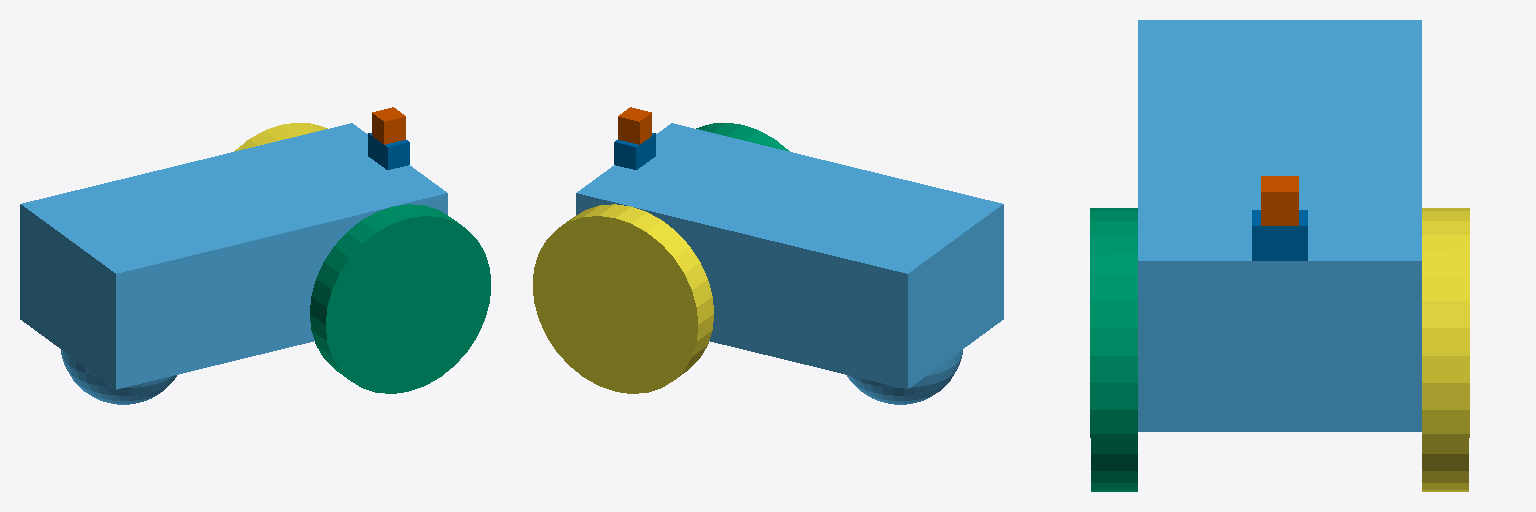
The robot description file, URDF, robot "simple_base":
<?xml version="1.0"?>
<robot name="simple_base">

<link name="base_link"></link>
<joint name="base_joint" type="fixed">
    <parent link="base_link"/>
    <child link="body"/>
</joint>

<link name="body">
<visual>
    <geometry>
        <box size="0.6 0.3 0.2"/>
    </geometry>
    <origin xyz="-0.2 0 0.05"/>
</visual>
<collision>
    <geometry>
        <box size="0.6 0.3 0.2"/>
    </geometry>
    <origin xyz="-0.2 0 0.05"/>
</collision>
<inertial>
    <mass value="1"/>
    <inertia
        ixx="0.0108"
        iyy="0.0333"
        izz="0.0375"
        ixy="0" ixz="0" iyz="0"
    />
    <origin xyz="-0.2 0 0.05"/>
</inertial>

<visual>
    <geometry>
        <sphere radius="0.1"/>
    </geometry>
    <origin xyz="-0.4 0 -0.05"/>
</visual>
<collision>
    <geometry>
        <sphere radius="0.1"/>
    </geometry>
    <origin xyz="-0.4 0 -0.05"/>
</collision>
<inertial>
    <mass value="6"/>
    <inertia
        ixx="0.024"
        iyy="0.024"
        izz="0.024"
        ixy="0" ixz="0" iyz="0"
    />
    <origin xyz="-0.4 0 -0.05"/>
</inertial>

</link>

<gazebo reference="body">
    <mu1>0</mu1>
    <mu2>0</mu2>
</gazebo>

<link name="wheel_right">
<visual>
    <geometry>
        <cylinder length="0.05" radius="0.15"/>
    </geometry>
    <origin xyz="0 0 0.025"/>
</visual>
<collision>
    <geometry>
        <cylinder length="0.05" radius="0.15"/>
    </geometry>
    <origin xyz="0 0 0.025"/>
</collision>
<inertial>
    <mass value="0.5"/>
    <inertia
        ixx="0.00146"
        iyy="0.00146"
        izz="0.00281"
        ixy="0" ixz="0" iyz="0"
    />
    <origin xyz="0 0 0.025"/>
</inertial>
</link>

<link name="wheel_left">
<visual>
    <geometry>
        <cylinder length="0.05" radius="0.15"/>
    </geometry>
    <origin xyz="0 0 0.025"/>
</visual>
<collision>
    <geometry>
        <cylinder length="0.05" radius="0.15"/>
    </geometry>
    <origin xyz="0 0 0.025"/>
</collision>
<inertial>
    <mass value="0.5"/>
    <inertia
        ixx="0.00146"
        iyy="0.00146"
        izz="0.00281"
        ixy="0" ixz="0" iyz="0"
    />
    <origin xyz="0 0 0.025"/>
</inertial>
</link>

<link name="T265_link">
<visual>
    <geometry>
        <box size="0.04 0.06 0.04"/>
    </geometry>
    <origin xyz="0 0 0.02"/>
</visual>
<collision>
    <geometry>
        <box size="0.04 0.06 0.04"/>
    </geometry>
    <origin xyz="0 0 0.02"/>
</collision>
<inertial>
    <mass value="0.05"/>
    <inertia
        ixx="0.0000217"
        iyy="0.0000133"
        izz="0.0000217"
        ixy="0" ixz="0" iyz="0"
    />
    <origin xyz="0 0 0.02"/>
</inertial>
</link>

<link name="D435i_link">
<visual>
    <geometry>
        <box size="0.04 0.04 0.04"/>
    </geometry>
    <origin xyz="0 0 0.02"/>
</visual>
<collision>
    <geometry>
        <box size="0.04 0.04 0.04"/>
    </geometry>
    <origin xyz="0 0 0.02"/>
</collision>
<inertial>
    <mass value="0.05"/>
    <inertia
        ixx="0.0000133"
        iyy="0.0000133"
        izz="0.0000133"
        ixy="0" ixz="0" iyz="0"
    />
    <origin xyz="0 0 0.02"/>
</inertial>
</link>

<joint name="wheel_right" type="continuous">
    <parent link="body"/>
    <child link="wheel_right"/>
    <origin xyz="0 -0.15 0" rpy="1.571 0 0"/>
    <axis xyz="0 0 -1"/>
</joint>

<joint name="wheel_left" type="continuous">
    <parent link="body"/>
    <child link="wheel_left"/>
    <origin xyz="0 0.15 0" rpy="-1.571 0 0"/>
    <axis xyz="0 0 1"/>
</joint>

<joint name="T265_joint" type="fixed">
    <parent link="body"/>
    <child link="T265_link"/>
    <origin xyz="0.08 0 0.15"/>
</joint>

<joint name="D435i_joint" type="fixed">
    <parent link="body"/>
    <child link="D435i_link"/>
    <origin xyz="0.08 0 0.19"/>
</joint>

<gazebo>
<plugin filename="libgazebo_ros_control.so" name="control"/>
</gazebo>

<transmission name="wheel_right_tran">
    <type>transmission_interface/SimpleTransmission</type>
    <joint name="wheel_right">
        <hardwareInterface>VelocityJointInterface</hardwareInterface>
    </joint>
    <actuator name="wheel_right_actr">
        <hardwareInterface>VelocityJointInterface</hardwareInterface>
        <mechanicalReduction>1</mechanicalReduction>
    </actuator>
</transmission>

<transmission name="wheel_left_tran">
    <type>transmission_interface/SimpleTransmission</type>
    <joint name="wheel_left">
        <hardwareInterface>VelocityJointInterface</hardwareInterface>
    </joint>
    <actuator name="wheel_left_actr">
        <hardwareInterface>VelocityJointInterface</hardwareInterface>
        <mechanicalReduction>1</mechanicalReduction>
    </actuator>
</transmission>

<gazebo reference="T265_link">
<sensor type="multicamera" name="T265">
    <update_rate>30.0</update_rate>
    <camera name="left">
        <pose>0 0.035 0 0 0 0</pose>
        <horizontal_fov>1.3962634</horizontal_fov>
        <image>
            <width>800</width>
            <height>800</height>
            <format>R8G8B8</format>
        </image>
        <clip>
            <near>0.02</near>
            <far>300</far>
        </clip>
        <noise>
            <type>gaussian</type>
            <mean>0.0</mean>
            <stddev>0.007</stddev>
        </noise>
    </camera>
    <camera name="right">
        <pose>0 -0.035 0 0 0 0</pose>
        <horizontal_fov>1.3962634</horizontal_fov>
        <image>
            <width>800</width>
            <height>800</height>
            <format>R8G8B8</format>
        </image>
        <clip>
            <near>0.02</near>
            <far>300</far>
        </clip>
        <noise>
            <type>gaussian</type>
            <mean>0.0</mean>
            <stddev>0.007</stddev>
        </noise>
    </camera>
    <plugin name="T265_controller" filename="libgazebo_ros_multicamera.so">
        <alwaysOn>true</alwaysOn>
        <updateRate>0.0</updateRate>
        <cameraName>T265</cameraName>
        <imageTopicName>image_raw</imageTopicName>
        <cameraInfoTopicName>camera_info</cameraInfoTopicName>
        <frameName>T265_link</frameName>
        <hackBaseline>0.07</hackBaseline>
        <distortionK1>0.0</distortionK1>
        <distortionK2>0.0</distortionK2>
        <distortionK3>0.0</distortionK3>
        <distortionT1>0.0</distortionT1>
        <distortionT2>0.0</distortionT2>
    </plugin>
</sensor>
</gazebo>

<!--
<gazebo>
<plugin name="T265_imu" filename="libgazebo_ros_imu.so">
    <alwaysOn>true</alwaysOn>
    <bodyName>T265_link</bodyName>
    <topicName>/T265/imu</topicName>
    <serviceName>imu_service</serviceName>
    <gaussianNoise>0.0</gaussianNoise>
    <updateRate>20.0</updateRate>
</plugin>
</gazebo>
-->

<gazebo reference="D435i_link">
<sensor name="D435i" type="depth">
    <update_rate>30.0</update_rate>
    <camera>
        <horizontal_fov>1.047198</horizontal_fov>
        <image>
            <width>640</width>
            <height>480</height>
            <format>R8G8B8</format>
        </image>
        <clip>
            <near>0.05</near>
            <far>300</far>
        </clip>
    </camera>
    <plugin name="D435i_controller" filename="libgazebo_ros_openni_kinect.so">
        <baseline>0.2</baseline>
        <alwaysOn>true</alwaysOn>
        <updateRate>1.0</updateRate>
        <cameraName>D435i</cameraName>
        <imageTopicName>/D435i/color/image_raw</imageTopicName>
        <cameraInfoTopicName>/D435i/color/camera_info</cameraInfoTopicName>
        <depthImageTopicName>/D435i/depth/image_raw</depthImageTopicName>
        <depthImageInfoTopicName>/D435i/depth/camera_info</depthImageInfoTopicName>
        <pointCloudTopicName>/D435i/depth/points</pointCloudTopicName>
        <frameName>D435i_link</frameName>
        <pointCloudCutoff>0.5</pointCloudCutoff>
        <pointCloudCutoffMax>3.0</pointCloudCutoffMax>
        <distortionK1>0.00000001</distortionK1>
        <distortionK2>0.00000001</distortionK2>
        <distortionK3>0.00000001</distortionK3>
        <distortionT1>0.00000001</distortionT1>
        <distortionT2>0.00000001</distortionT2>
        <CxPrime>0</CxPrime>
        <Cx>0</Cx>
        <Cy>0</Cy>
        <focalLength>0</focalLength>
        <hackBaseline>0</hackBaseline>
    </plugin>
</sensor>
</gazebo>

<gazebo reference="D435i_link">
<gravity>true</gravity>
<sensor name="D435i_imu" type="imu">
    <always_on>true</always_on>
    <update_rate>30.0</update_rate>
    <visualize>true</visualize>
    <topic>/D435i/imu</topic>
    <plugin filename="libgazebo_ros_imu_sensor.so" name="D435_imu">
        <topicName>/D435i/imu</topicName>
        <bodyName>D435i_link</bodyName>
        <updateRateHZ>10.0</updateRateHZ>
        <gaussianNoise>0.0</gaussianNoise>
        <xyzOffset>0 0 0</xyzOffset>
        <rpyOffset>0 0 0</rpyOffset>
        <frameName>D435i_link</frameName>
        <initialOrientationAsReference>false</initialOrientationAsReference>
    </plugin>
    <pose>0 0 0 0 0 0</pose>
</sensor>
</gazebo>

</robot>

--- What the picture shows (computed from the rendered views, not written in the file) ---
The picture shows the robot from 3 angles, left to right: view 1: azimuth 30°, elevation 25°; view 2: azimuth 150°, elevation 25°; view 3: azimuth 270°, elevation 25°; orthographic projection.
Robot: simple_base — 6 links, 5 joints (2 continuous, 3 fixed); root link base_link; default pose: all joints at 0.
Links seen in each view (by area): view 1: body, wheel_right, D435i_link, T265_link, wheel_left; view 2: body, wheel_left, D435i_link, T265_link, wheel_right; view 3: body, wheel_right, wheel_left, T265_link, D435i_link.
Link boxes in pixels (bbox=[...]): body: bbox=[20, 123, 447, 404]; wheel_right: bbox=[310, 204, 490, 393]; D435i_link: bbox=[372, 107, 405, 144]; T265_link: bbox=[368, 133, 409, 169]; wheel_left: bbox=[234, 123, 327, 151]; body: bbox=[576, 123, 1003, 404]; wheel_left: bbox=[533, 204, 713, 393]; D435i_link: bbox=[618, 107, 651, 144]; T265_link: bbox=[614, 133, 655, 169]; wheel_right: bbox=[696, 123, 789, 151]; body: bbox=[1138, 20, 1421, 431]; wheel_right: bbox=[1090, 208, 1137, 491]; wheel_left: bbox=[1422, 208, 1469, 491]; T265_link: bbox=[1252, 210, 1307, 260]; D435i_link: bbox=[1261, 176, 1298, 225].
Bounding box of the posed robot: 0.65 × 0.4001 × 0.38 m (x, y, z).
Geometry: primitives only (box / cylinder / sphere), no mesh files.
